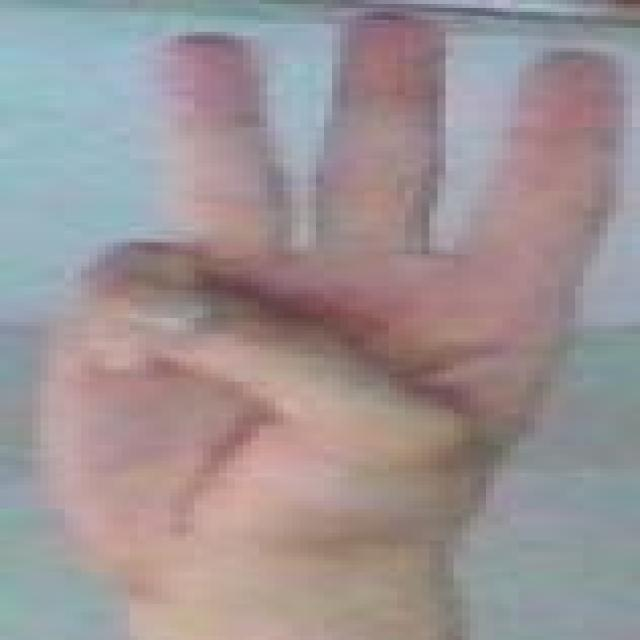W: (3, 6, 639, 640)
